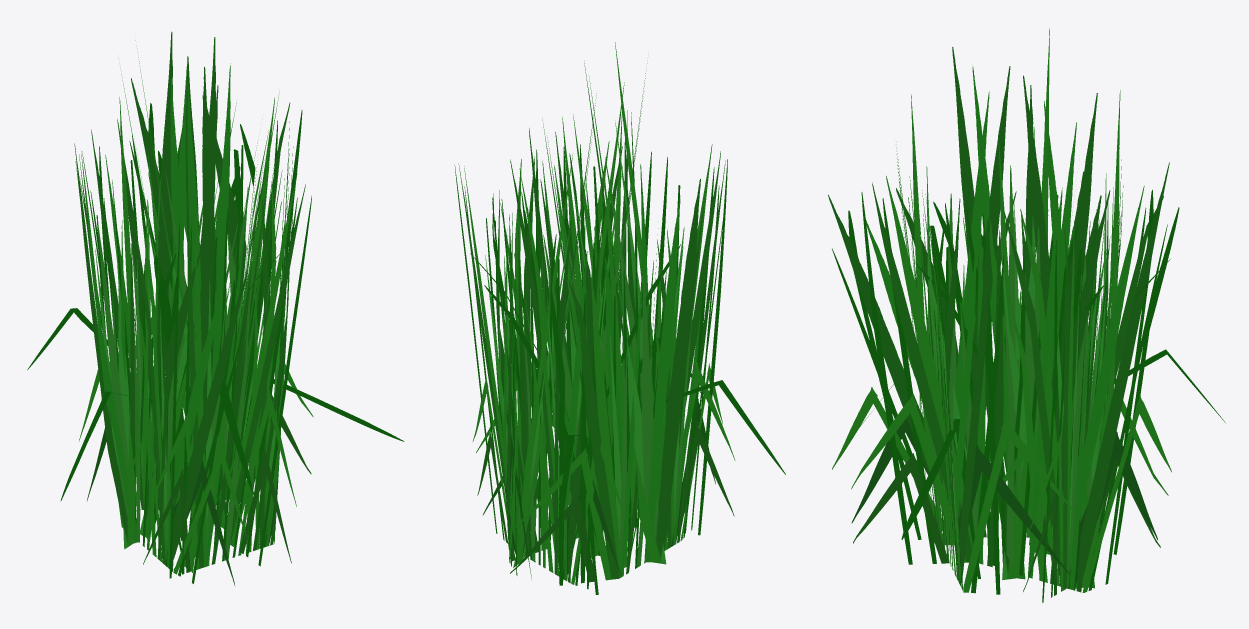
File: PT_Cattail_02.fbx
The picture shows the model from 3 angles, left to right: view 1: azimuth 30°, elevation 25°; view 2: azimuth 150°, elevation 25°; view 3: azimuth 270°, elevation 25°; orthographic projection. The views are drawn at different scales.
Parts seen in each view (by area): view 1: PT_Cattail_02_LOD0; view 2: PT_Cattail_02_LOD0; view 3: PT_Cattail_02_LOD0.
Boxes of the visible parts, x1=… form: PT_Cattail_02_LOD0: x1=27, y1=31, x2=404, y2=585; PT_Cattail_02_LOD0: x1=454, y1=42, x2=785, y2=594; PT_Cattail_02_LOD0: x1=828, y1=28, x2=1225, y2=602.
Size of what is drawn, in the model's own units: 149 by 226 by 155.
